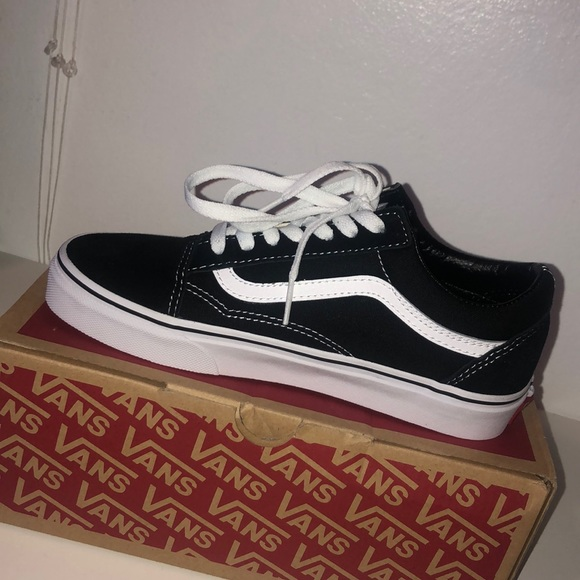Vans Old Skool Black: (35, 156, 557, 484)
